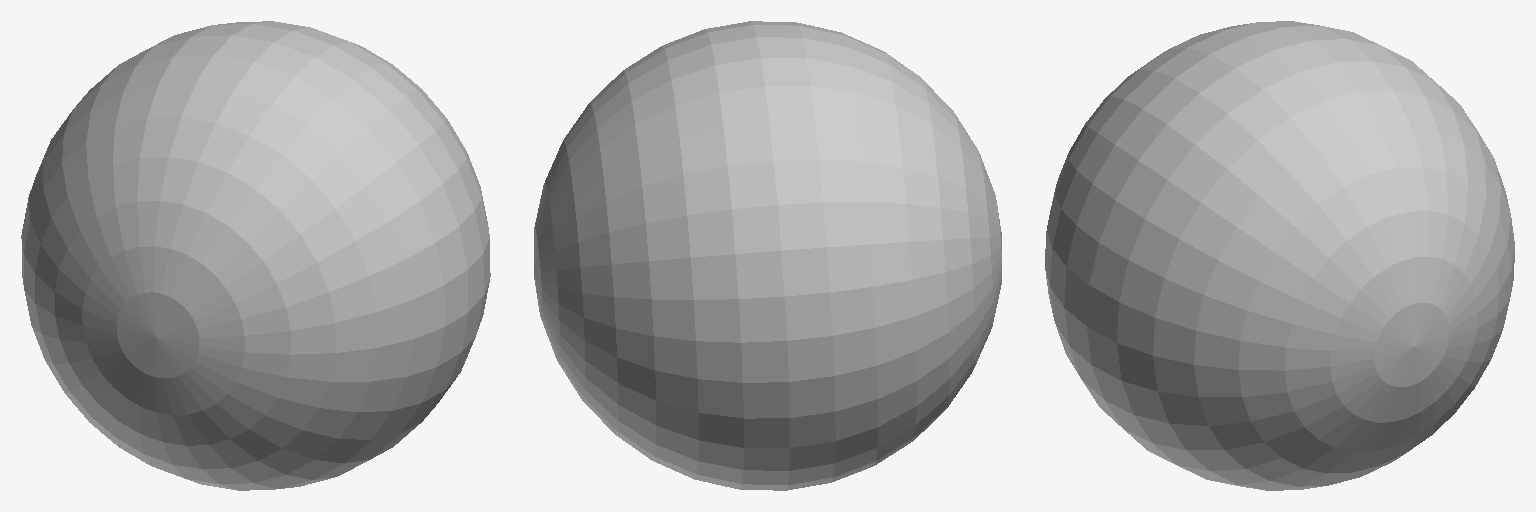
Rendered from golfball.obj.
3 renders of one model, left to right at view 1: azimuth 30°, elevation 25°; view 2: azimuth 150°, elevation 25°; view 3: azimuth 270°, elevation 25°, orthographic.
Visible parts, largest first — view 1: Sphere; view 2: Sphere; view 3: Sphere.
Boxes of the visible parts, x1,y1,x2,y2 form: Sphere: [21, 21, 490, 490]; Sphere: [534, 21, 1001, 490]; Sphere: [1045, 21, 1514, 490].
Size of the model in its own units: 5.95 by 5.94 by 5.95.